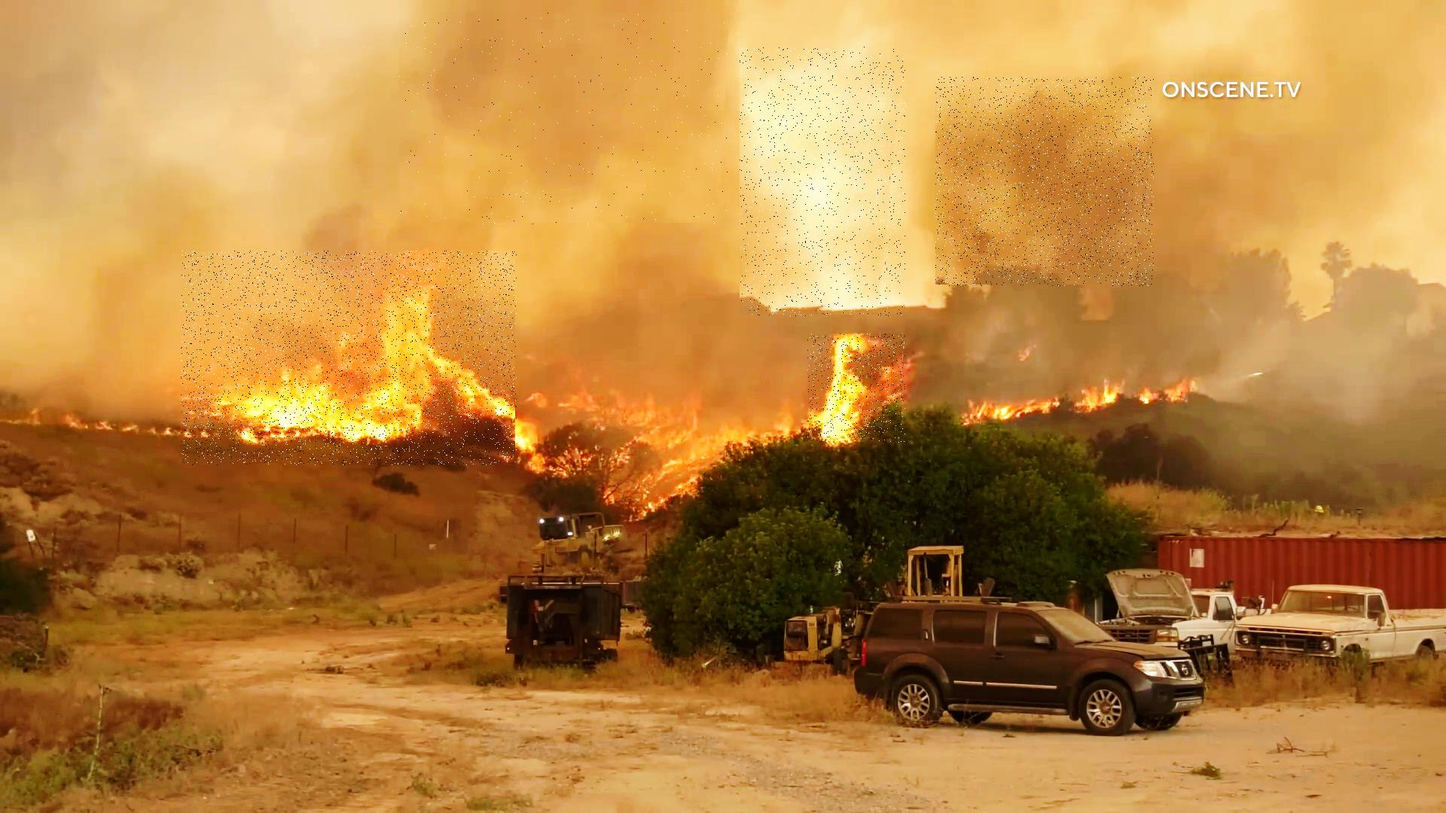fire: (181, 251, 517, 465), (808, 334, 906, 443)
smoke: (399, 13, 728, 225), (936, 77, 1154, 287), (740, 47, 906, 317)
